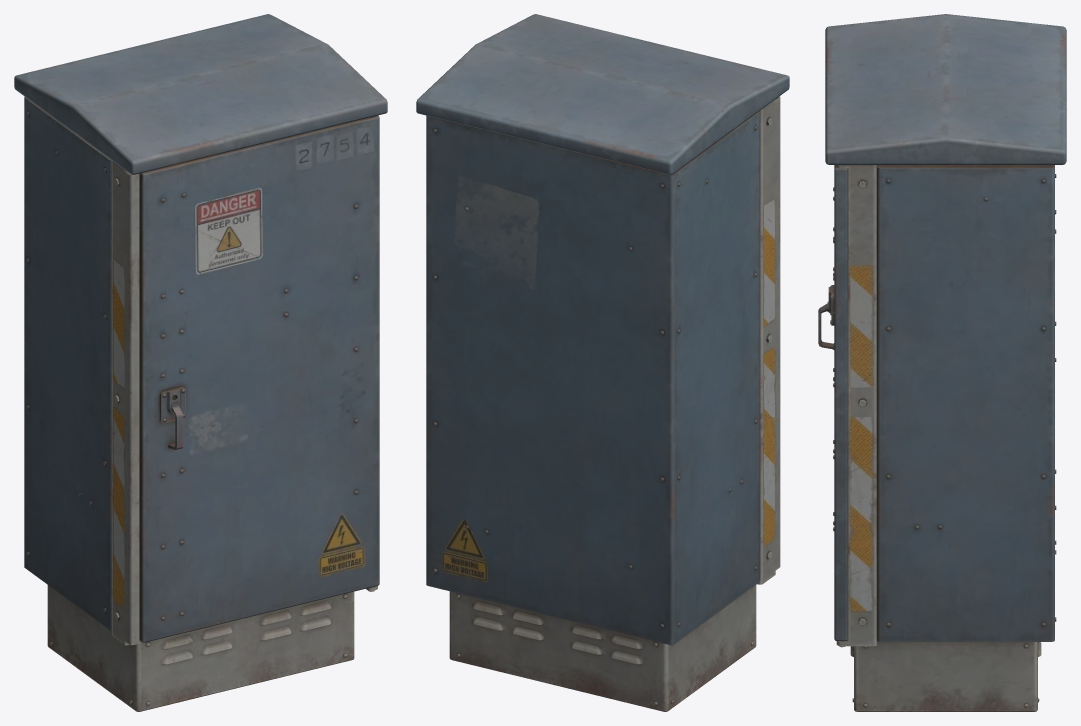
Rendered from utility_box_01.glb.
3 renders of one model, left to right at view 1: azimuth 30°, elevation 25°; view 2: azimuth 150°, elevation 25°; view 3: azimuth 270°, elevation 25°, orthographic.
Parts seen in each view (by area): view 1: utility_box_01_box; view 2: utility_box_01_box; view 3: utility_box_01_box.
Part boxes in pixels (x1=…): utility_box_01_box: x1=14, y1=14, x2=387, y2=711; utility_box_01_box: x1=416, y1=14, x2=789, y2=711; utility_box_01_box: x1=818, y1=14, x2=1066, y2=711.
Bounding box in the file's own units: 0.52 × 1.12 × 0.4319.
1 material, 1 textured.
